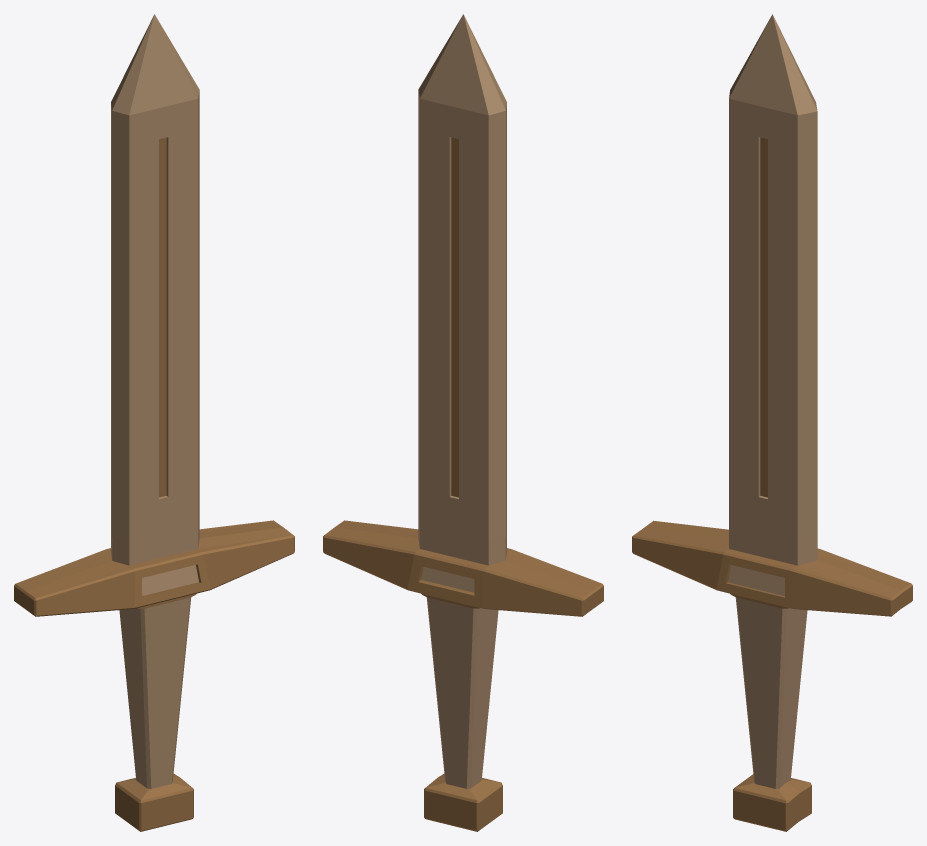
The model's file is PracticeWoodenSword.fbx.
3 views of the same model, side by side, from view 1: azimuth 30°, elevation 25°; view 2: azimuth 150°, elevation 25°; view 3: azimuth 330°, elevation 25° (orthographic).
Parts seen in each view (by area): view 1: WoodPracticeSword; view 2: WoodPracticeSword; view 3: WoodPracticeSword.
Part boxes in pixels (x1,y1,x2,y2): WoodPracticeSword: (14, 14, 294, 831); WoodPracticeSword: (323, 14, 603, 831); WoodPracticeSword: (632, 14, 912, 831).
Bounding box in the file's own units: 565 × 1659 × 136.
